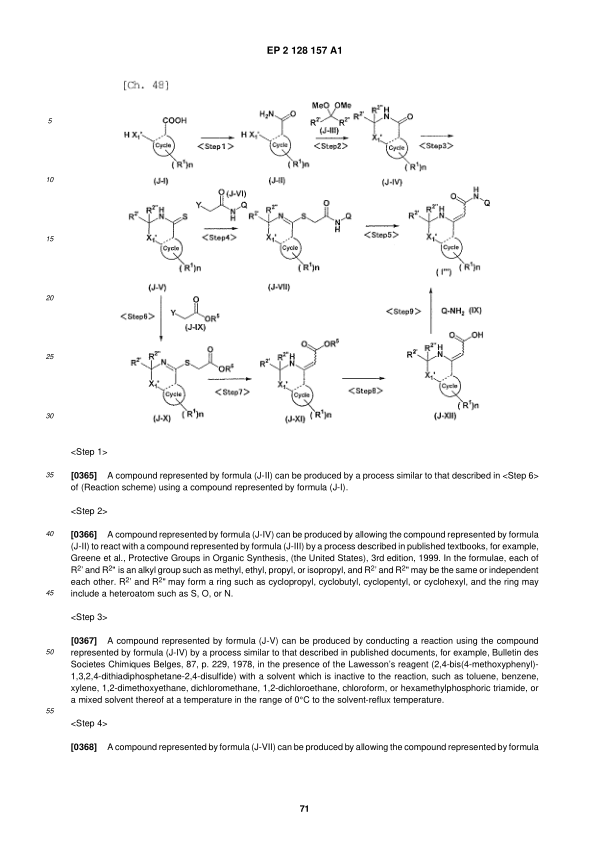compound-structure: (125, 347, 238, 424), (404, 330, 497, 423), (253, 334, 347, 426), (248, 197, 356, 275), (408, 183, 500, 274), (124, 198, 201, 274), (121, 106, 197, 180), (354, 102, 426, 172), (239, 106, 307, 176), (170, 292, 224, 338), (192, 190, 249, 226), (311, 95, 352, 135)
reaction: (92, 95, 548, 446)
reaction-arrow: (385, 285, 488, 331), (304, 92, 357, 159), (190, 186, 246, 246), (119, 297, 166, 339), (338, 370, 394, 399), (416, 127, 464, 152), (362, 215, 404, 243), (208, 374, 257, 397), (200, 132, 238, 155)
